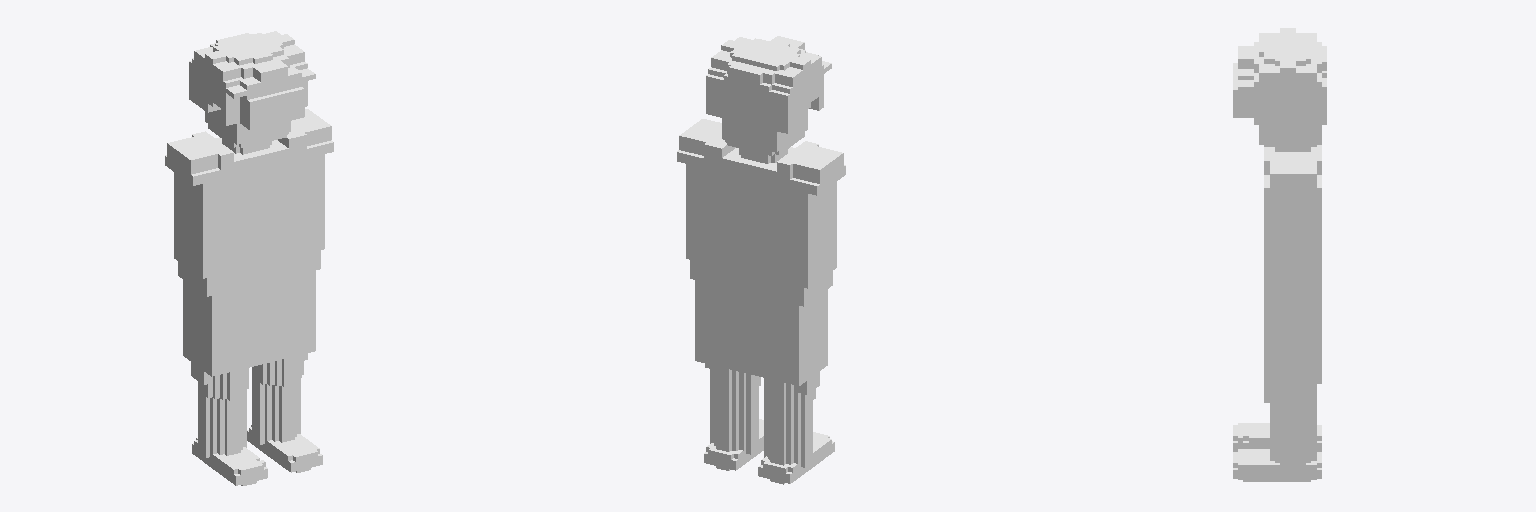
File: LeafsPlayer.obj
The picture shows the model from 3 angles: view 1: azimuth 30°, elevation 25°; view 2: azimuth 150°, elevation 25°; view 3: azimuth 270°, elevation 25°; orthographic projection.
Size of the model in its own units: 31 by 87 by 18.